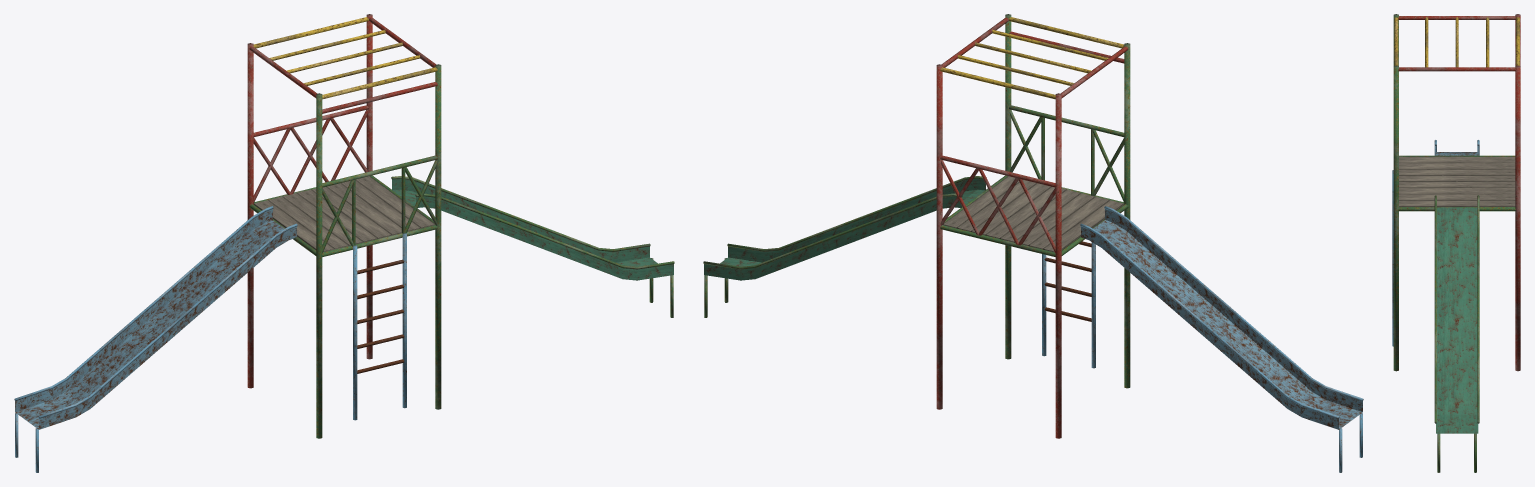
File: playground_slide_tower_lod2_web.glb
3 renders of one model, left to right at view 1: azimuth 30°, elevation 25°; view 2: azimuth 150°, elevation 25°; view 3: azimuth 270°, elevation 25°, orthographic. The views are drawn at different scales.
Visible parts, largest first — view 1: SlideTower_Mesh; view 2: SlideTower_Mesh; view 3: SlideTower_Mesh.
Part boxes in pixels (bbox=[...]): SlideTower_Mesh: bbox=[14, 14, 674, 472]; SlideTower_Mesh: bbox=[703, 14, 1363, 472]; SlideTower_Mesh: bbox=[1392, 14, 1520, 472].
Bounding box in the file's own units: 6.43 × 3.3 × 1.27.
Materials: 8 (8 with a texture image).
